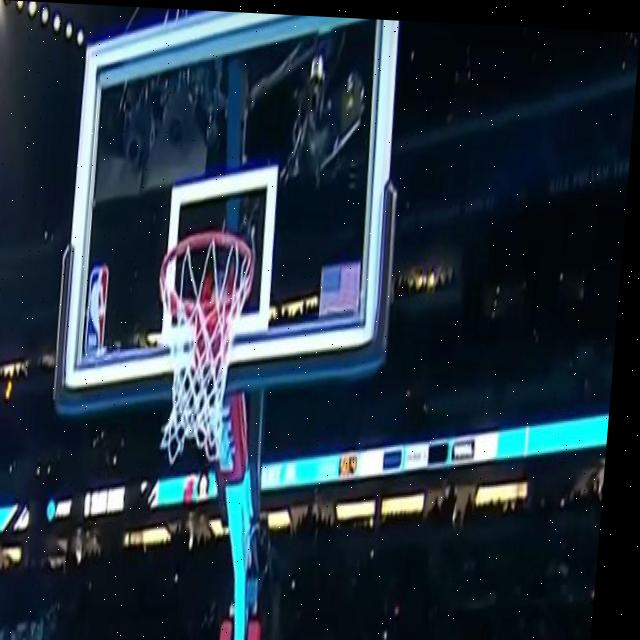hoop: (128, 240, 277, 471)
